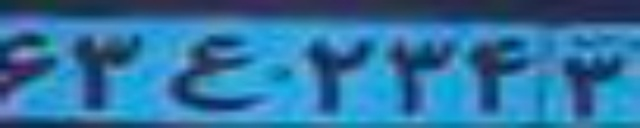2: (300, 33, 373, 115)
3: (72, 29, 145, 111), (390, 37, 453, 114), (556, 51, 619, 117)
4: (472, 36, 538, 112)
6: (5, 30, 60, 108)
ain: (168, 33, 261, 110)
